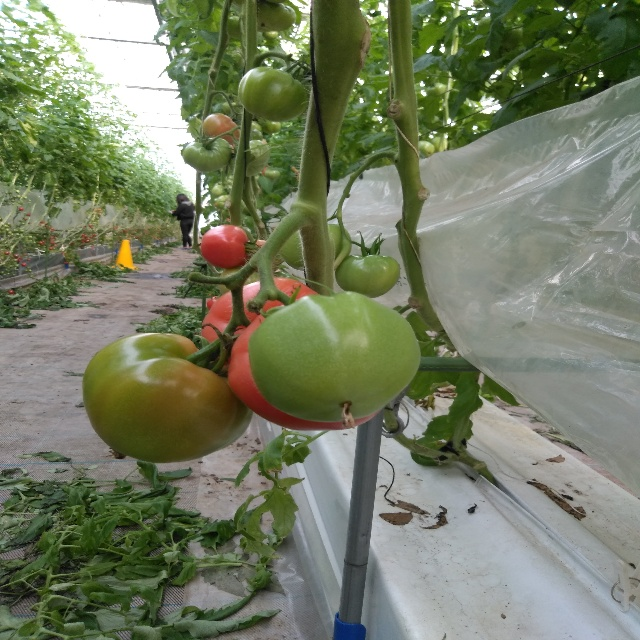b_fully_ripened: (228, 305, 380, 430), (200, 277, 321, 365), (200, 224, 251, 269)
b_green: (248, 291, 422, 423), (238, 67, 308, 123), (335, 254, 401, 298), (181, 137, 232, 172), (219, 266, 277, 294), (257, 2, 296, 32), (249, 140, 271, 165)
b_half_ripened: (83, 333, 254, 464), (202, 113, 241, 145)
